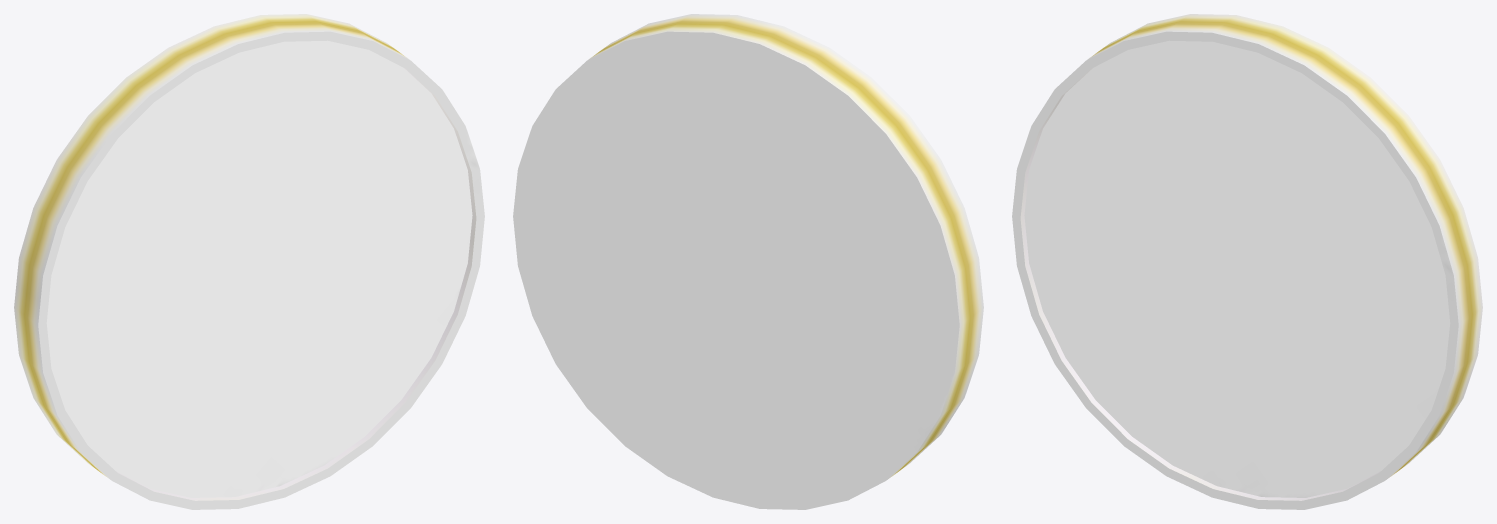
The model's file is led-mirror--2.gltf.
3 views of the same model, side by side, from view 1: azimuth 30°, elevation 25°; view 2: azimuth 150°, elevation 25°; view 3: azimuth 330°, elevation 25° (orthographic).
Visible parts, largest first — view 1: LED_Mirror_02; view 2: LED_Mirror_02; view 3: LED_Mirror_02.
Part boxes in pixels (bbox=[...]): LED_Mirror_02: bbox=[14, 14, 484, 509]; LED_Mirror_02: bbox=[513, 14, 983, 509]; LED_Mirror_02: bbox=[1012, 14, 1482, 509].
Bounding box in the file's own units: 0.7094 × 0.7055 × 0.0665.
Materials: 1 (1 with a texture image).
